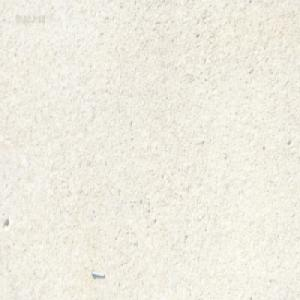Nail: (90, 268, 104, 278)
